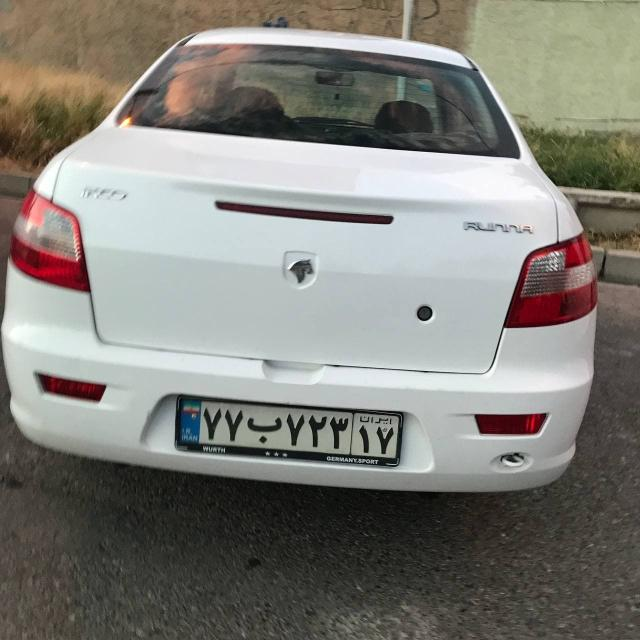Plates: (179, 400, 400, 459)
